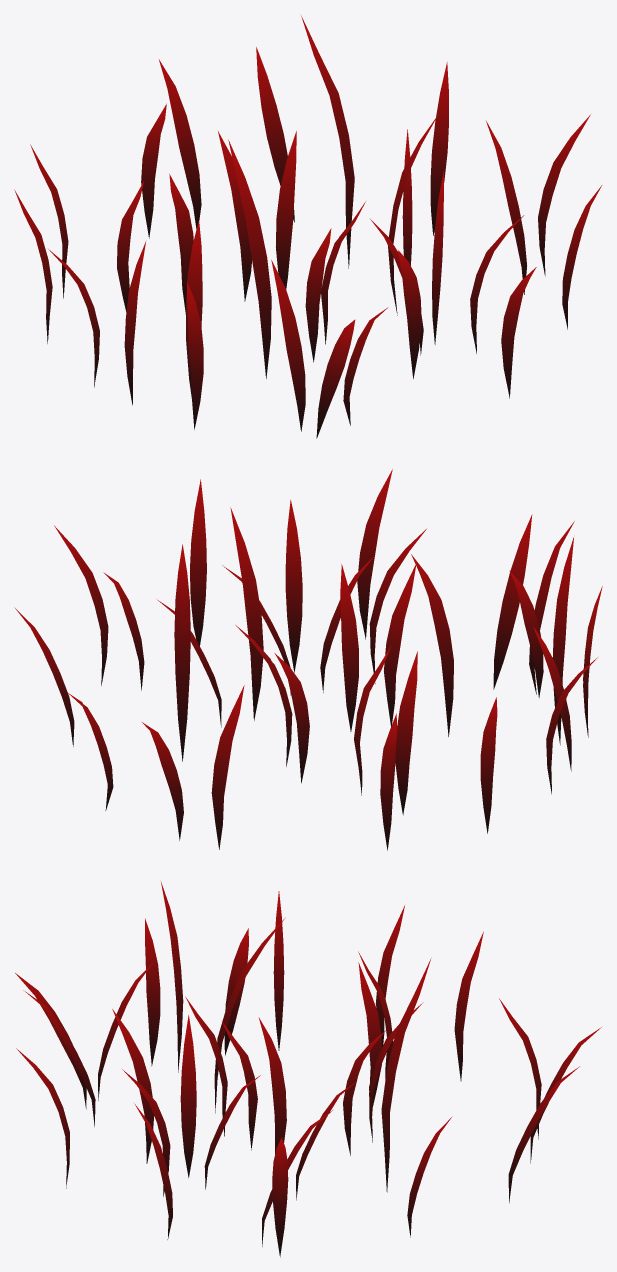
Rendered from grass.fbx.
3 views of the same model, one above another, from view 1: azimuth 30°, elevation 25°; view 2: azimuth 150°, elevation 25°; view 3: azimuth 270°, elevation 25° (orthographic). The views are drawn at different scales.
Visible parts, largest first — view 1: Grass; view 2: Grass; view 3: Grass.
Boxes of the visible parts, x1,y1,x2,y2 form: Grass: (14,15,601,438); Grass: (14,469,602,850); Grass: (15,882,601,1257).
Bounding box in the file's own units: 3.33 × 1.44 × 3.34.
